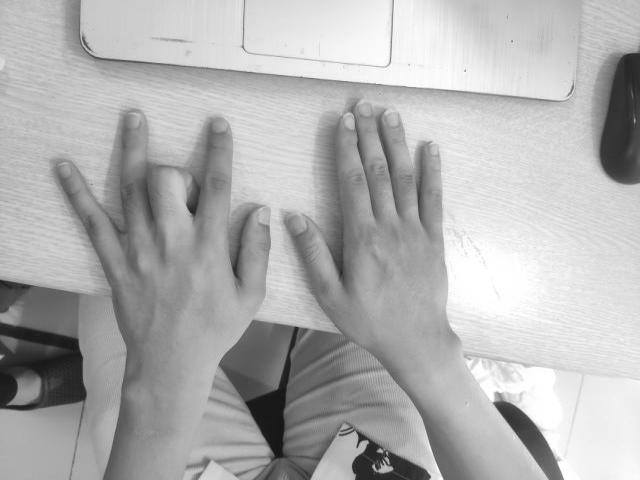not-gloved: (53, 109, 269, 334), (288, 104, 450, 328)
